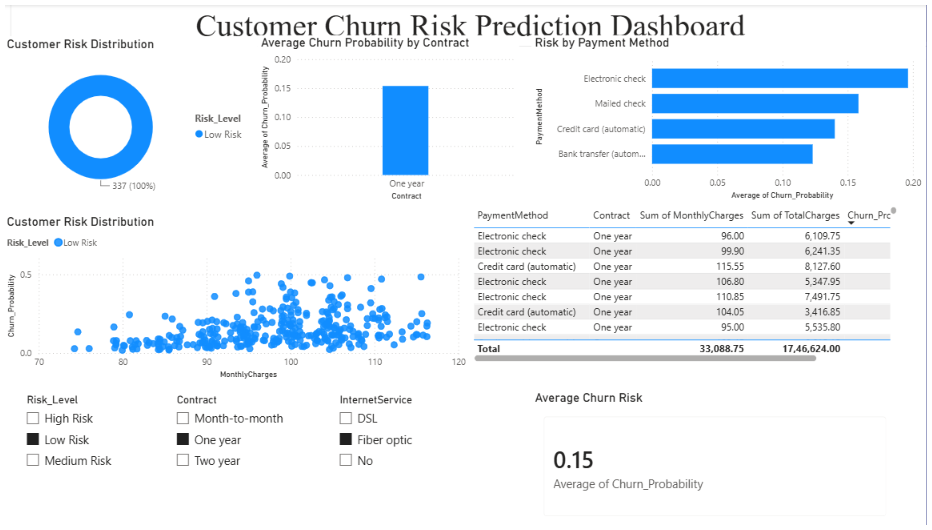

The dashboard page shown, as its layout file describes it:
{"tool":"powerbi","page":{"name":"ML Prediction Dashboard","canvas":[1280,720],"ordinal":2},"visuals":[{"type":"textbox","box":[9.6,0,1270.7,57.6],"z":0},{"type":"donutChart","title":"Customer Risk Distribution","fields":{"Category":["powerbi_churn_predictions.Risk_Level"],"Y":["CountNonNull(powerbi_churn_predictions.Risk_Level)"]},"box":[0,43.9,348.5,230.5],"z":1000},{"type":"clusteredColumnChart","title":"Average Churn Probability by Contract","fields":{"Category":["powerbi_churn_predictions.Contract"],"Y":["Avg(powerbi_churn_predictions.Churn_Probability)"]},"box":[348.5,42.5,359.5,231.9],"z":2000},{"type":"clusteredBarChart","title":"Risk by Payment Method","fields":{"Category":["powerbi_churn_predictions.PaymentMethod"],"Y":["Avg(powerbi_churn_predictions.Churn_Probability)"]},"box":[724.5,42.5,540.7,230.5],"z":3000},{"type":"scatterChart","title":"Customer Risk Distribution","fields":{"Y":["powerbi_churn_predictions.Churn_Probability"],"X":["powerbi_churn_predictions.MonthlyCharges"],"Series":["powerbi_churn_predictions.Risk_Level"]},"box":[0,288.2,639.5,230.5],"z":4000},{"type":"tableEx","fields":{"Values":["powerbi_churn_predictions.PaymentMethod","powerbi_churn_predictions.Contract","Sum(powerbi_churn_predictions.MonthlyCharges)","Sum(powerbi_churn_predictions.TotalCharges)","powerbi_churn_predictions.Churn_Probability","powerbi_churn_predictions.Risk_Level"]},"box":[639.5,273.1,591.4,222.3],"z":5000},{"type":"slicer","fields":{"Values":["powerbi_churn_predictions.Risk_Level"]},"box":[19.2,529.7,190.7,190.7],"z":6000},{"type":"slicer","fields":{"Values":["powerbi_churn_predictions.Contract"]},"box":[225,529.7,190.7,190.7],"z":7000},{"type":"slicer","fields":{"Values":["powerbi_churn_predictions.InternetService"]},"box":[448.7,529.7,190.7,190.7],"z":8000},{"type":"cardVisual","title":"Average Churn Risk","fields":{"Data":["Avg(powerbi_churn_predictions.Churn_Probability)"]},"box":[724.5,529.7,505,190.7],"z":9000}]}

Visuals, with their boxes in screenshot pixels (x1, y1, x2, y2), scaled from the page's 1280x720 canvas onto the 932x530 screenshot:
textbox: crop(7, 0, 931, 42)
"Customer Risk Distribution" donutChart: crop(0, 32, 254, 202)
"Average Churn Probability by Contract" clusteredColumnChart: crop(254, 31, 516, 202)
"Risk by Payment Method" clusteredBarChart: crop(528, 31, 921, 201)
"Customer Risk Distribution" scatterChart: crop(0, 212, 466, 382)
tableEx - powerbi_churn_predictions.PaymentMethod x powerbi_churn_predictions.Contract: crop(466, 201, 896, 365)
slicer - powerbi_churn_predictions.Risk_Level: crop(14, 390, 153, 529)
slicer - powerbi_churn_predictions.Contract: crop(164, 390, 303, 529)
slicer - powerbi_churn_predictions.InternetService: crop(327, 390, 466, 529)
"Average Churn Risk" cardVisual: crop(528, 390, 895, 529)
